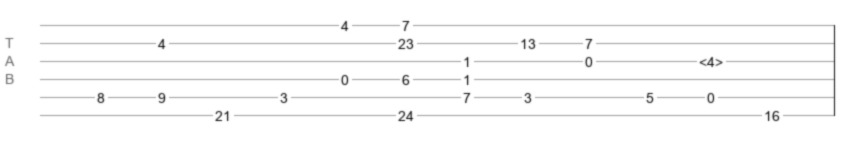0: (341, 72, 349, 82), (585, 54, 593, 64), (707, 90, 715, 100)
1: (463, 72, 471, 82), (463, 54, 471, 64)
13: (520, 36, 536, 46)
16: (764, 108, 780, 118)
21: (215, 108, 231, 118)
23: (398, 36, 414, 46)
24: (398, 108, 414, 118)
3: (280, 90, 288, 100), (524, 90, 532, 100)
4: (158, 36, 166, 46), (341, 18, 349, 28)
5: (646, 90, 654, 100)
6: (402, 72, 410, 82)
7: (402, 18, 410, 28), (463, 90, 471, 100), (585, 36, 593, 46)
8: (97, 90, 105, 100)
9: (158, 90, 166, 100)
harmonic: (699, 54, 723, 64)
